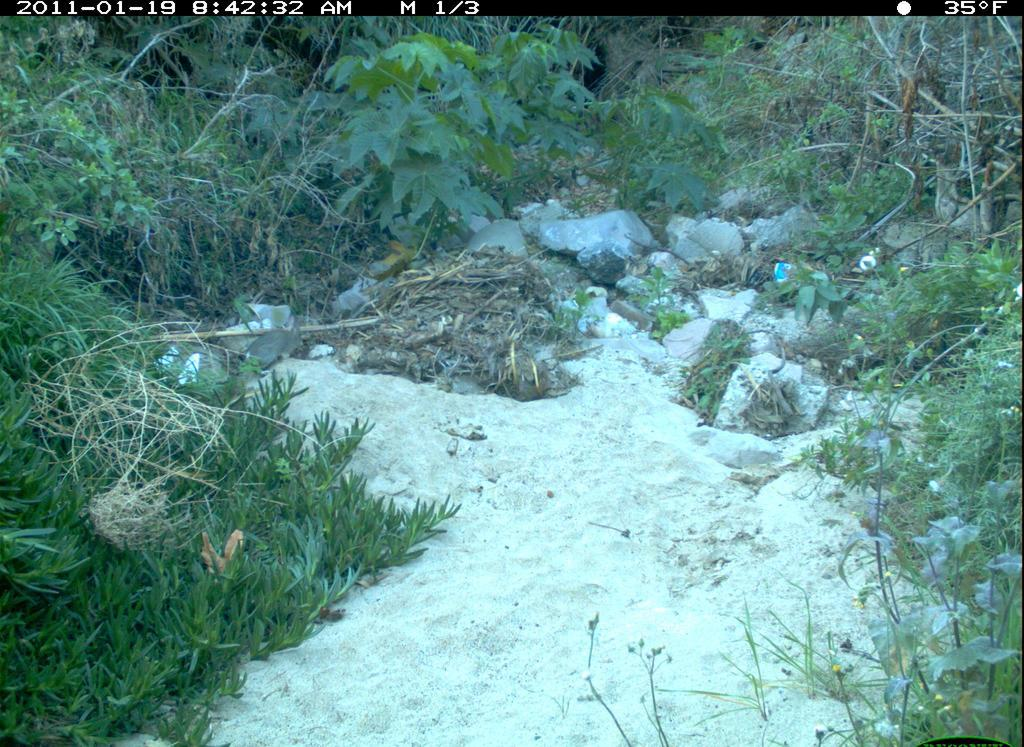rabbit: (233, 318, 310, 373)
